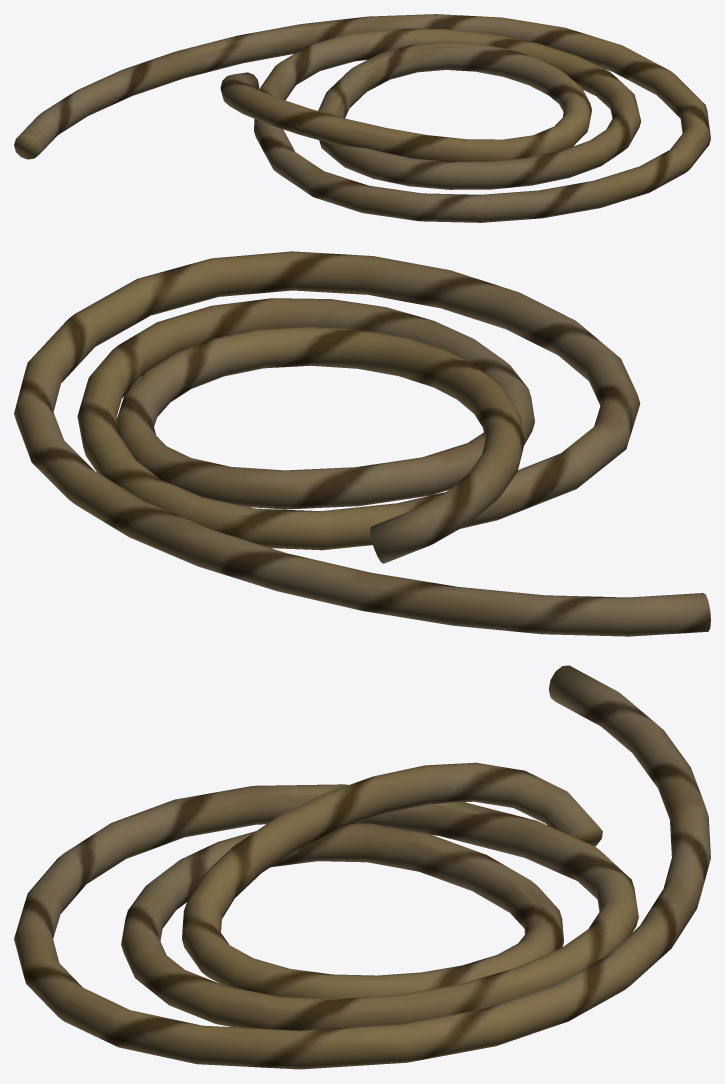
The model's file is Rope_3.glb.
3 renders of one model, top to bottom at view 1: azimuth 30°, elevation 25°; view 2: azimuth 150°, elevation 25°; view 3: azimuth 270°, elevation 25°, orthographic. The views are drawn at different scales.
Parts seen in each view (by area): view 1: Rope_3; view 2: Rope_3; view 3: Rope_3.
Boxes of the visible parts, x1,y1,x2,y2 form: Rope_3: [14, 14, 710, 222]; Rope_3: [14, 251, 710, 636]; Rope_3: [14, 665, 710, 1069].
Size of the model in its own units: 1.23 by 0.1018 by 0.9508.
1 material, 1 textured.
